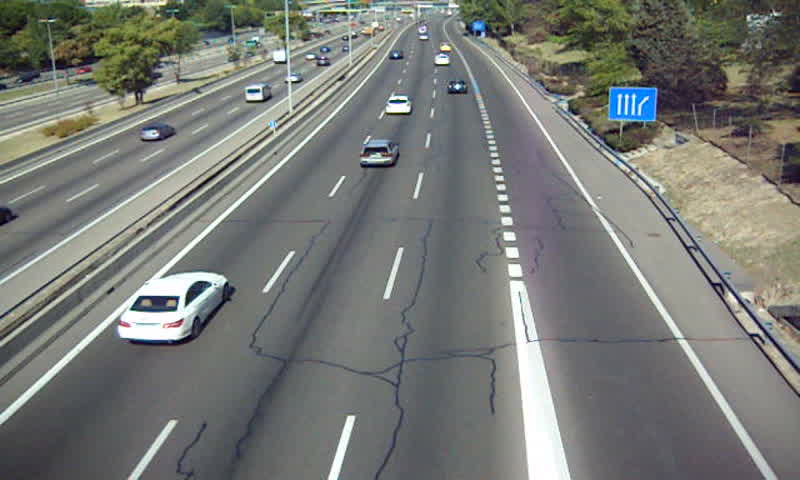car: (117, 271, 233, 343), (359, 138, 400, 166), (385, 96, 412, 115), (446, 79, 465, 95)
